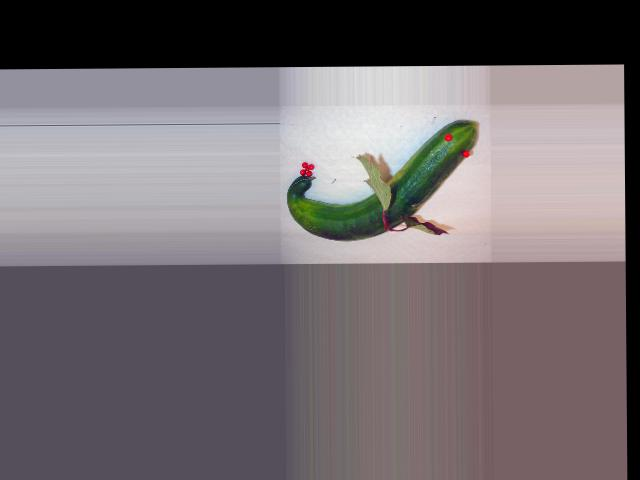cucumber: (286, 119, 477, 241)
